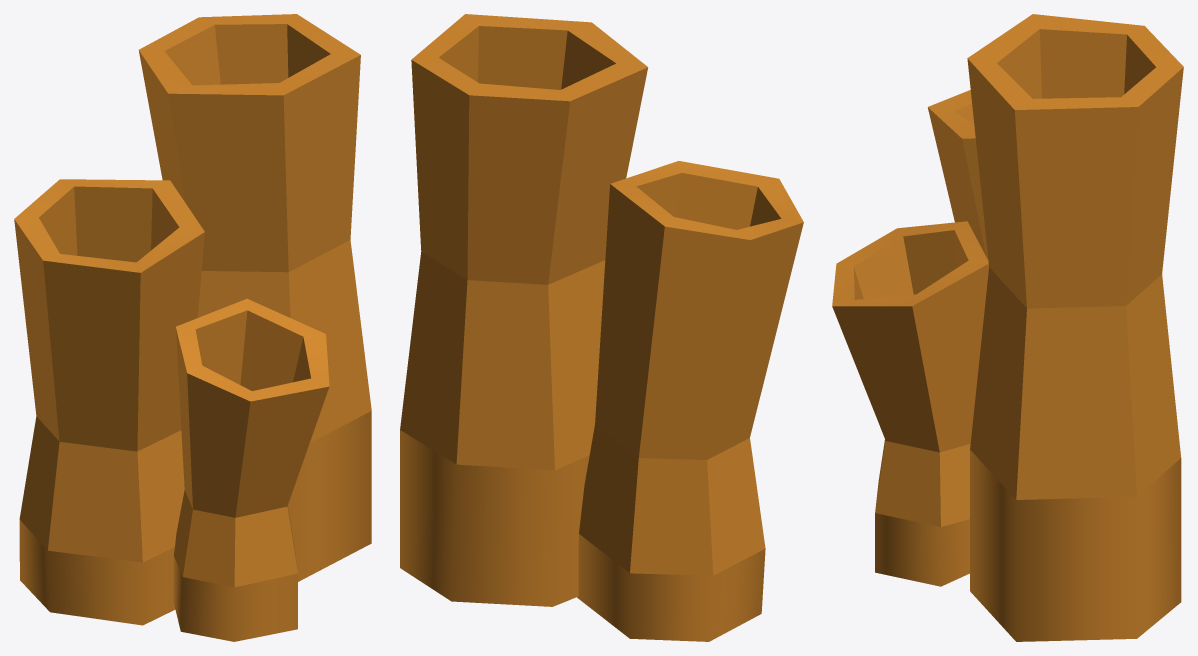
File: Underwater Stuff 1.fbx
The picture shows the model from 3 angles, left to right: view 1: azimuth 30°, elevation 25°; view 2: azimuth 150°, elevation 25°; view 3: azimuth 270°, elevation 25°; orthographic projection. The views are drawn at different scales.
Visible parts, largest first — view 1: pasted__pasted__pPipe1 (×2), pasted__pPipe1; view 2: pasted__pasted__pPipe1, pasted__pPipe1; view 3: pasted__pasted__pPipe1 (×2), pasted__pPipe1.
Boxes of the visible parts, x1=… form: pasted__pasted__pPipe1 (×2): x1=138, y1=14, x2=371, y2=641; pasted__pPipe1: x1=14, y1=179, x2=204, y2=625; pasted__pasted__pPipe1: x1=400, y1=14, x2=648, y2=606; pasted__pPipe1: x1=577, y1=161, x2=803, y2=641; pasted__pasted__pPipe1 (×2): x1=832, y1=14, x2=1183, y2=641; pasted__pPipe1: x1=927, y1=90, x2=988, y2=259.
Bounding box in the file's own units: 16.74 × 23.85 × 14.32.
